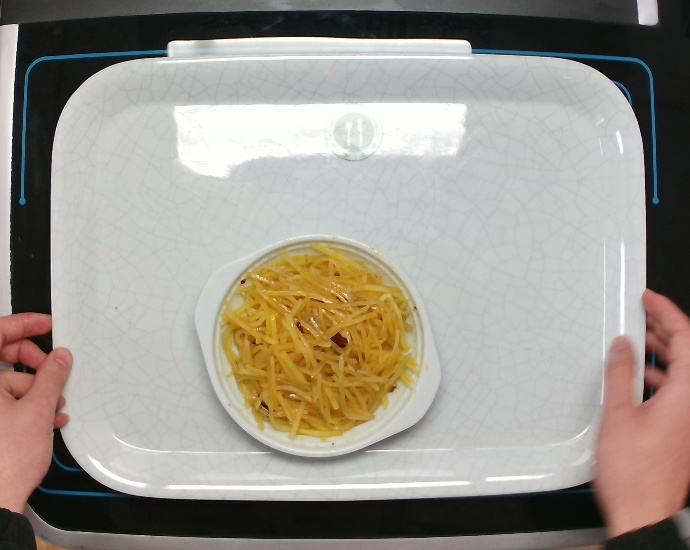JYsf-Shuang_Er_Pan: (187, 231, 449, 464)
